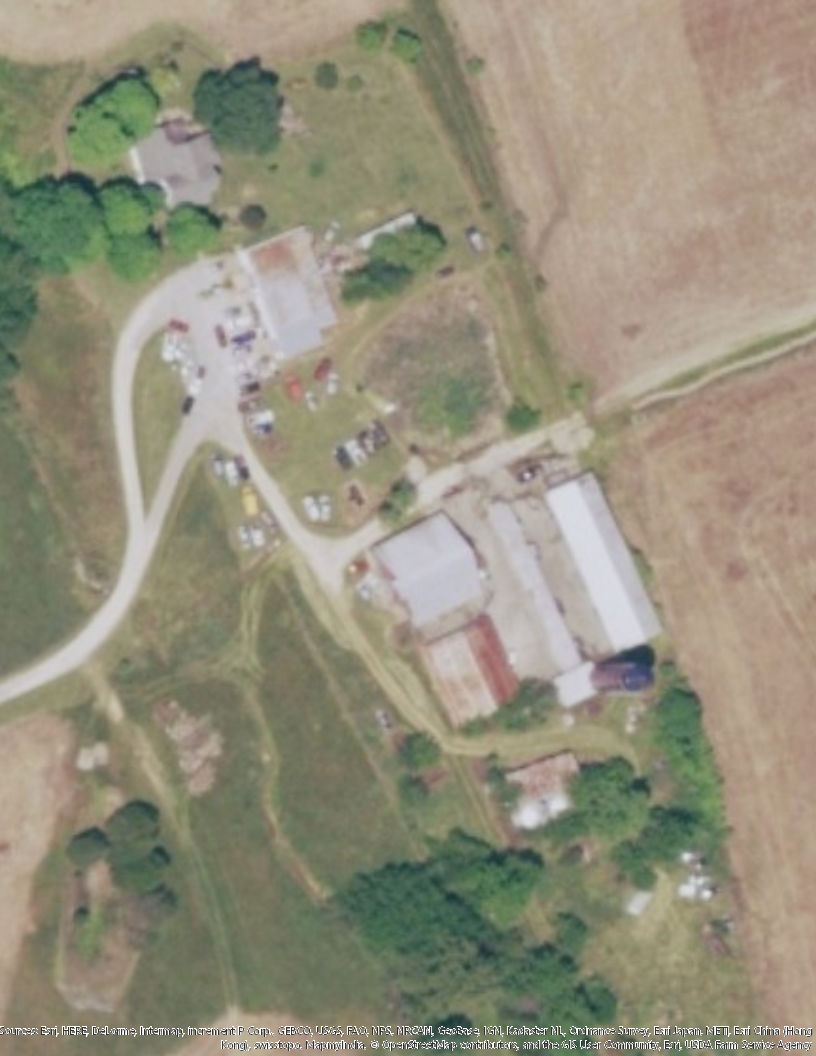cafo: (541, 466, 666, 657)
